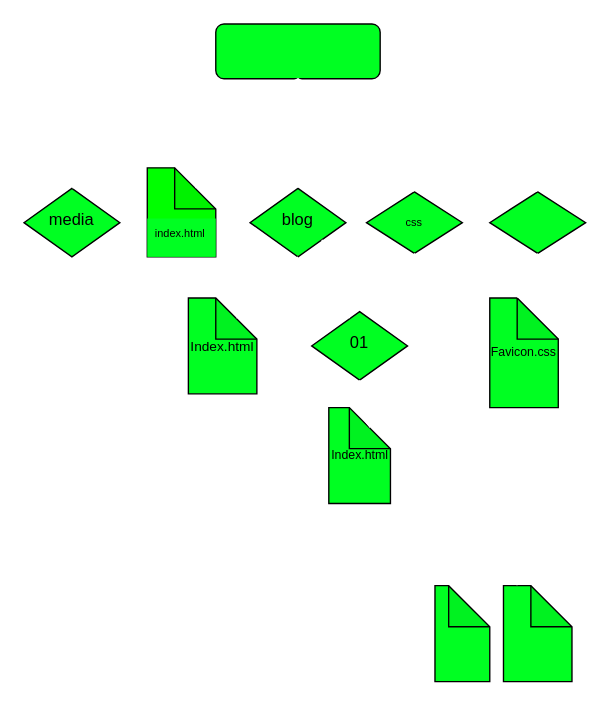
This 610x706 diagram has some shape labels left out. Here are the shapes that lost their labels. From the top down, the centre of each, then its label:
At (297,51): "Root".
At (537,221): "Images".
At (462,633): "Home.css".
At (537,633): "Blogs.css".
